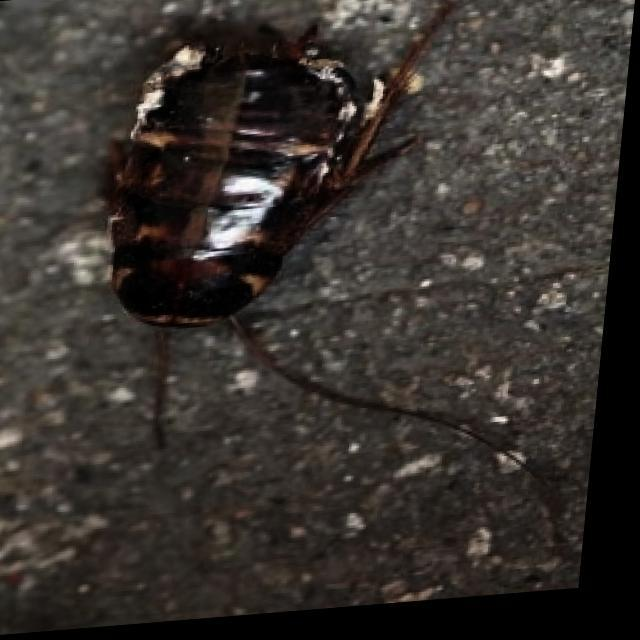cockroach: (54, 27, 432, 378)
